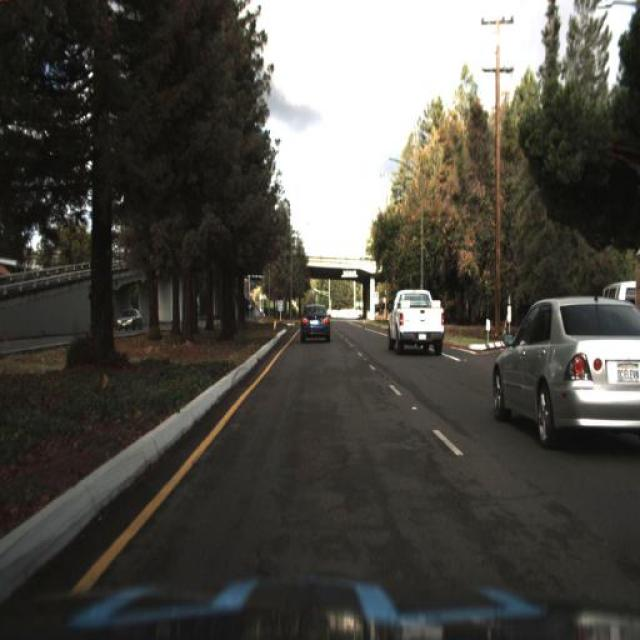car: (491, 290, 638, 448), (384, 283, 450, 362), (293, 288, 337, 358), (106, 301, 149, 338), (114, 307, 145, 341)
